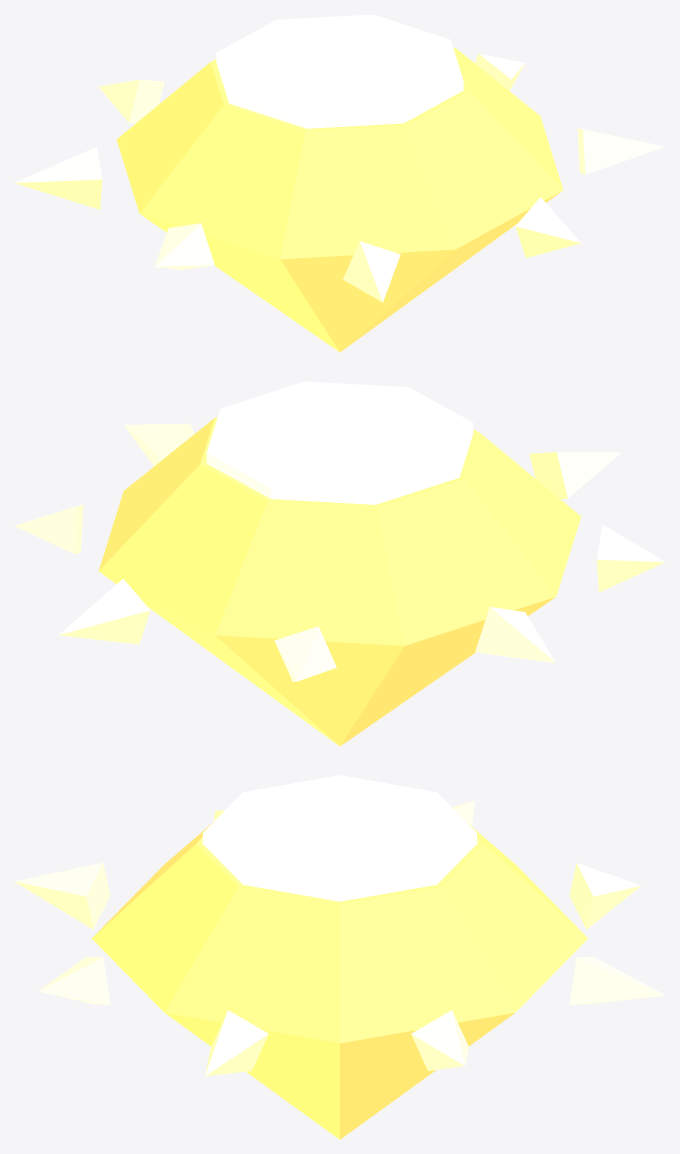
File: fruit_3.glb
3 renders of one model, top to bottom at view 1: azimuth 30°, elevation 25°; view 2: azimuth 150°, elevation 25°; view 3: azimuth 270°, elevation 25°, orthographic. The views are drawn at different scales.
Visible parts, largest first — view 1: fruit_3; view 2: fruit_3; view 3: fruit_3.
Boxes of the visible parts, <box> form: fruit_3: <box>14,14,665,352</box>; fruit_3: <box>14,381,665,746</box>; fruit_3: <box>14,775,665,1139</box>.
Size of the model in its own units: 0.4989 by 0.259 by 0.4989.
